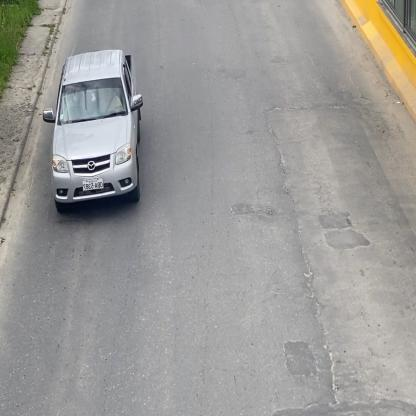Placa: (82, 177, 104, 195)
